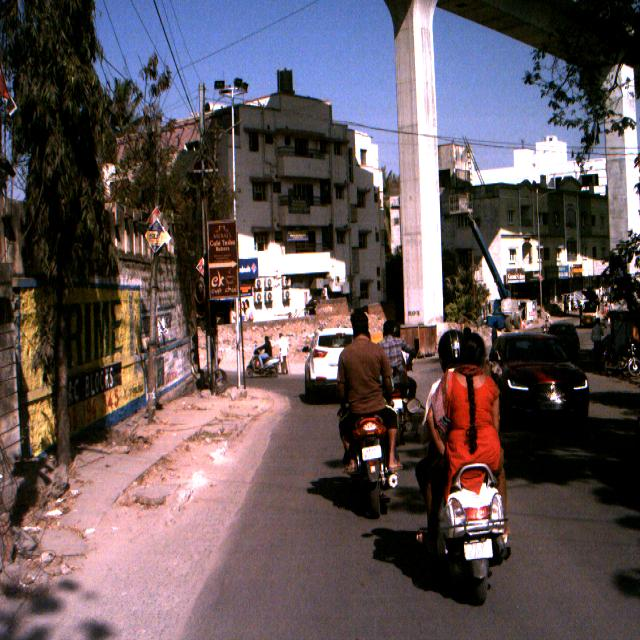motorcycle ahead at: (426, 459, 510, 603), (337, 413, 403, 516)
sign board ahead at: (200, 208, 248, 408)
